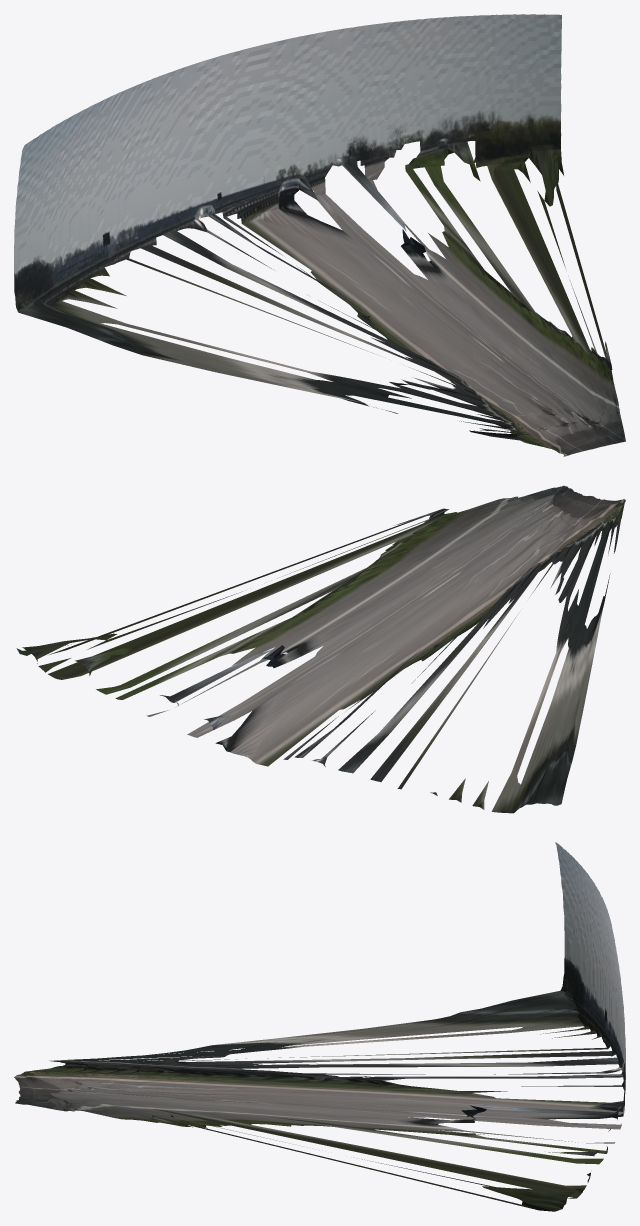
3 views of the same model, one above another, from view 1: azimuth 30°, elevation 25°; view 2: azimuth 150°, elevation 25°; view 3: azimuth 270°, elevation 25° (orthographic). The views are drawn at different scales.
Visible parts, largest first — view 1: defaultobject; view 2: defaultobject; view 3: defaultobject.
Boxes of the visible parts, x1,y1,x2,y2 form: defaultobject: (14, 14, 625, 456); defaultobject: (16, 485, 625, 813); defaultobject: (14, 842, 625, 1211).
Size of the model in its own units: 41.16 by 13.73 by 44.67.
1 material, 1 textured.
